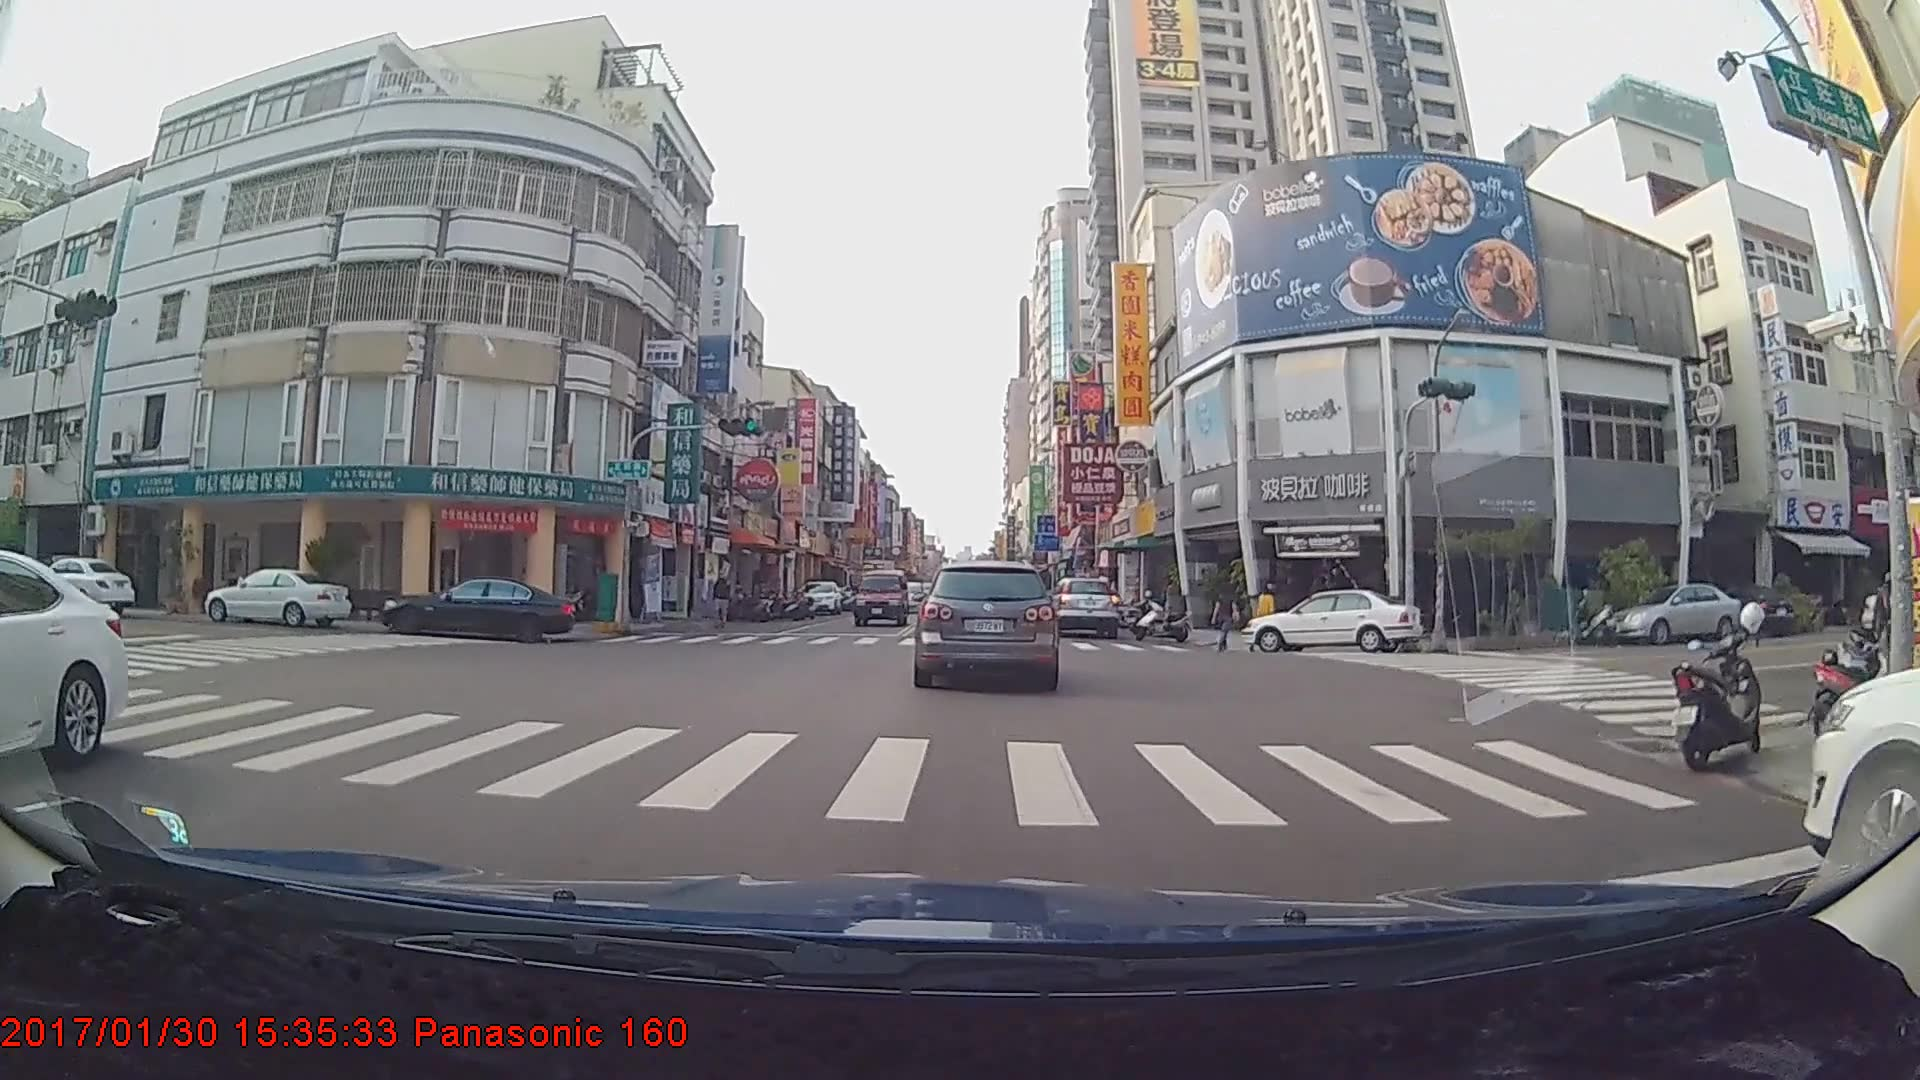pedestrian: (1212, 584, 1242, 655), (1255, 584, 1279, 653), (712, 571, 733, 632)
vehicle: (0, 540, 127, 803), (916, 558, 1056, 688), (376, 577, 574, 644), (1240, 589, 1421, 654), (204, 566, 353, 630), (1606, 581, 1740, 646), (1045, 577, 1119, 642), (851, 567, 909, 626), (795, 580, 842, 616)
